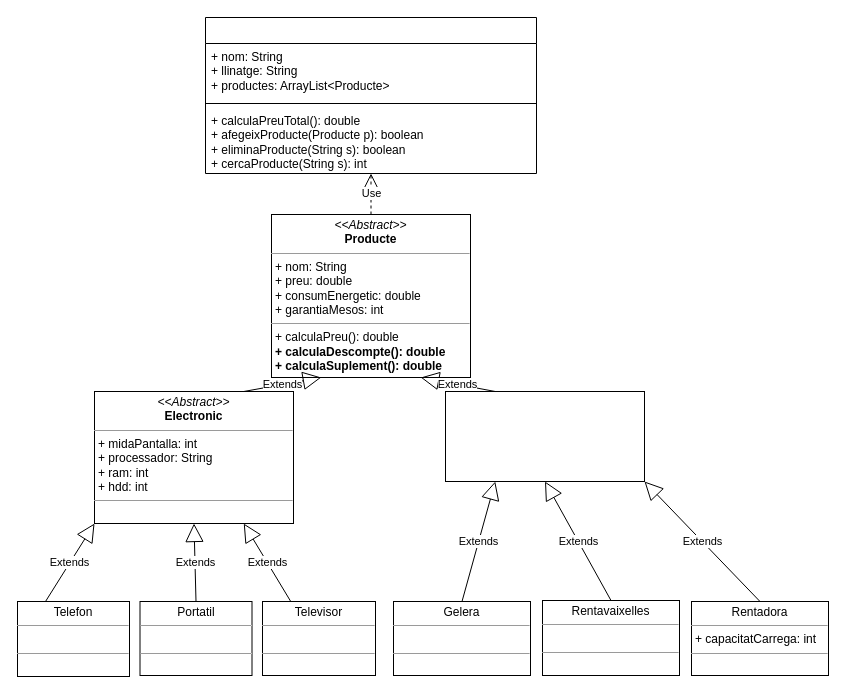
The diagram is 846 pixels wide and 694 high, and some of its shapes have lost their labels. The shapes that lost their labels are listed below. From the top down, each one's box as (x1, y1, x2, y2) in pixels, then its label:
(204, 16, 536, 174): Persona
(444, 390, 644, 482): <<Abstract>> Electrodomestic + classeEnergetica: char
